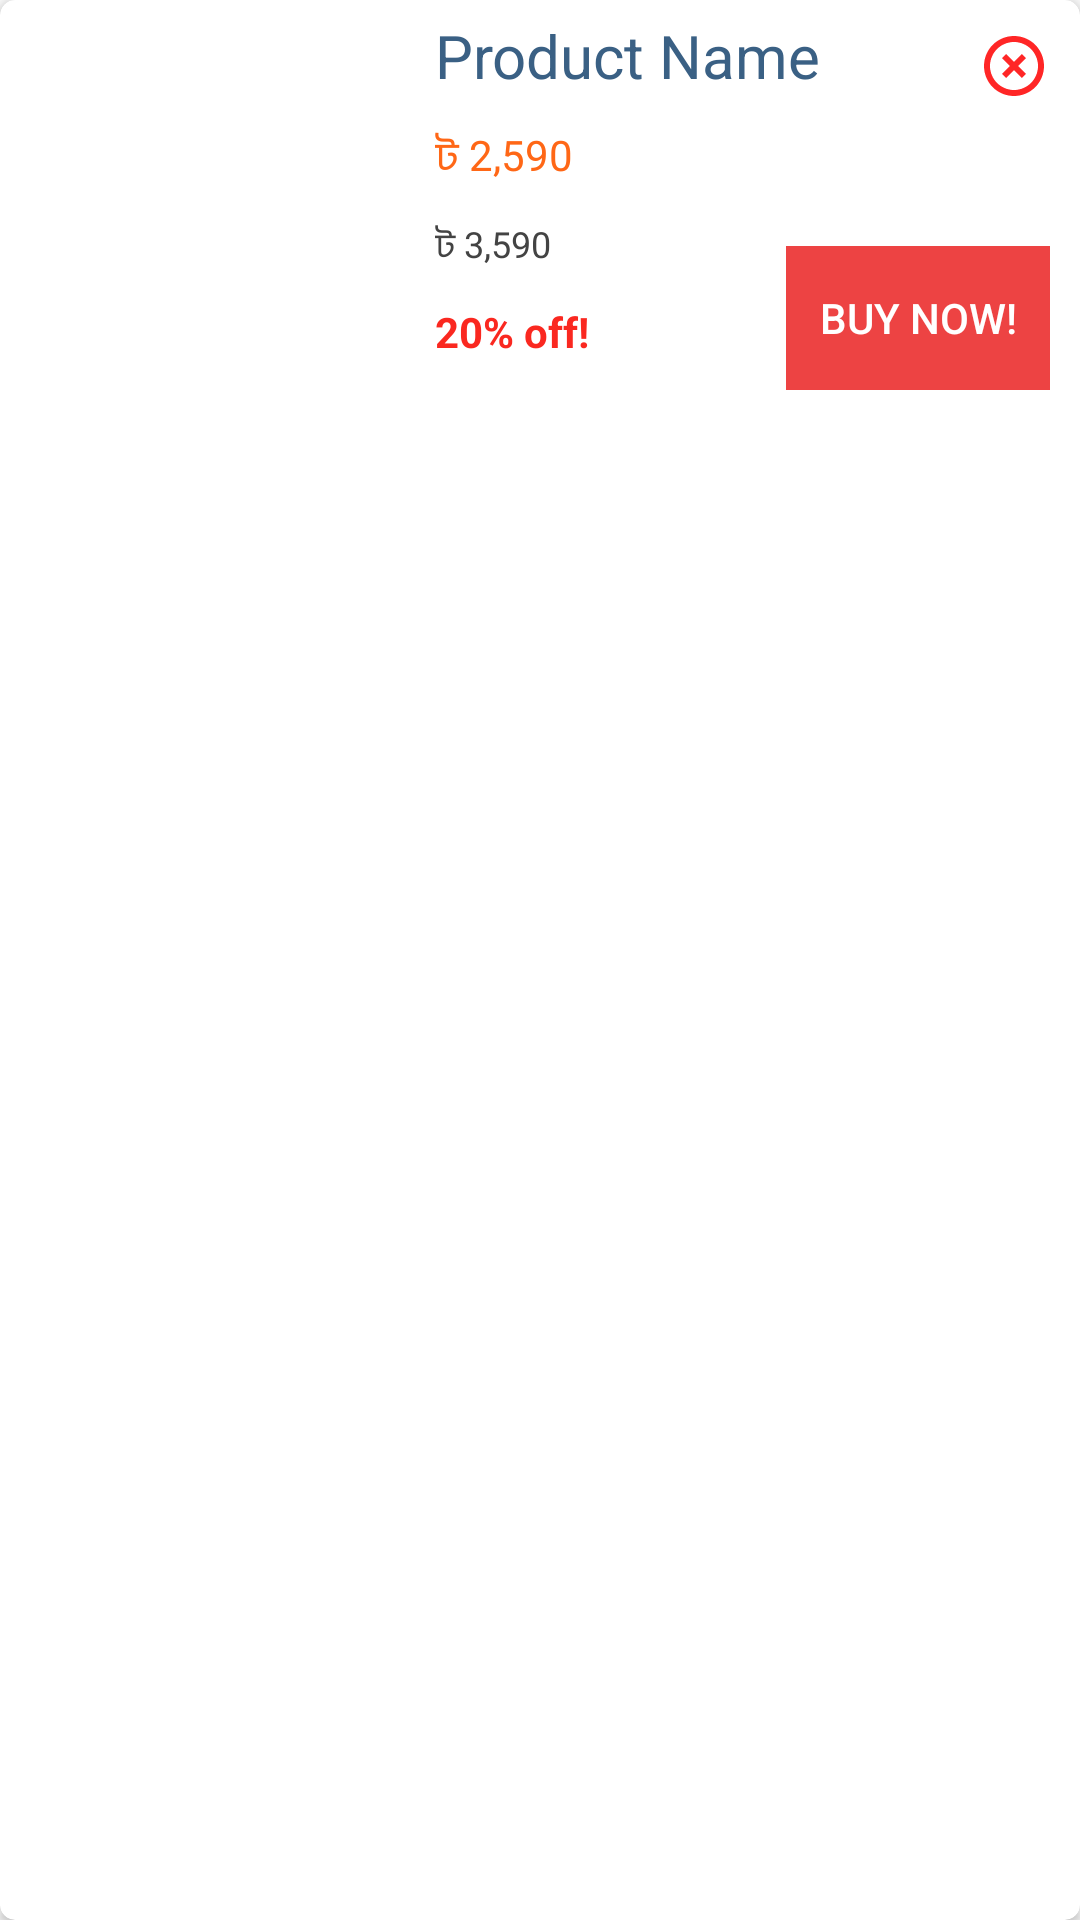

Named icons in this screenshot (1080*1920) and their centers, (x,y):
close: (1014,66)
